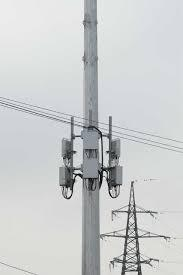odn_pole: (59, 0, 122, 274)
